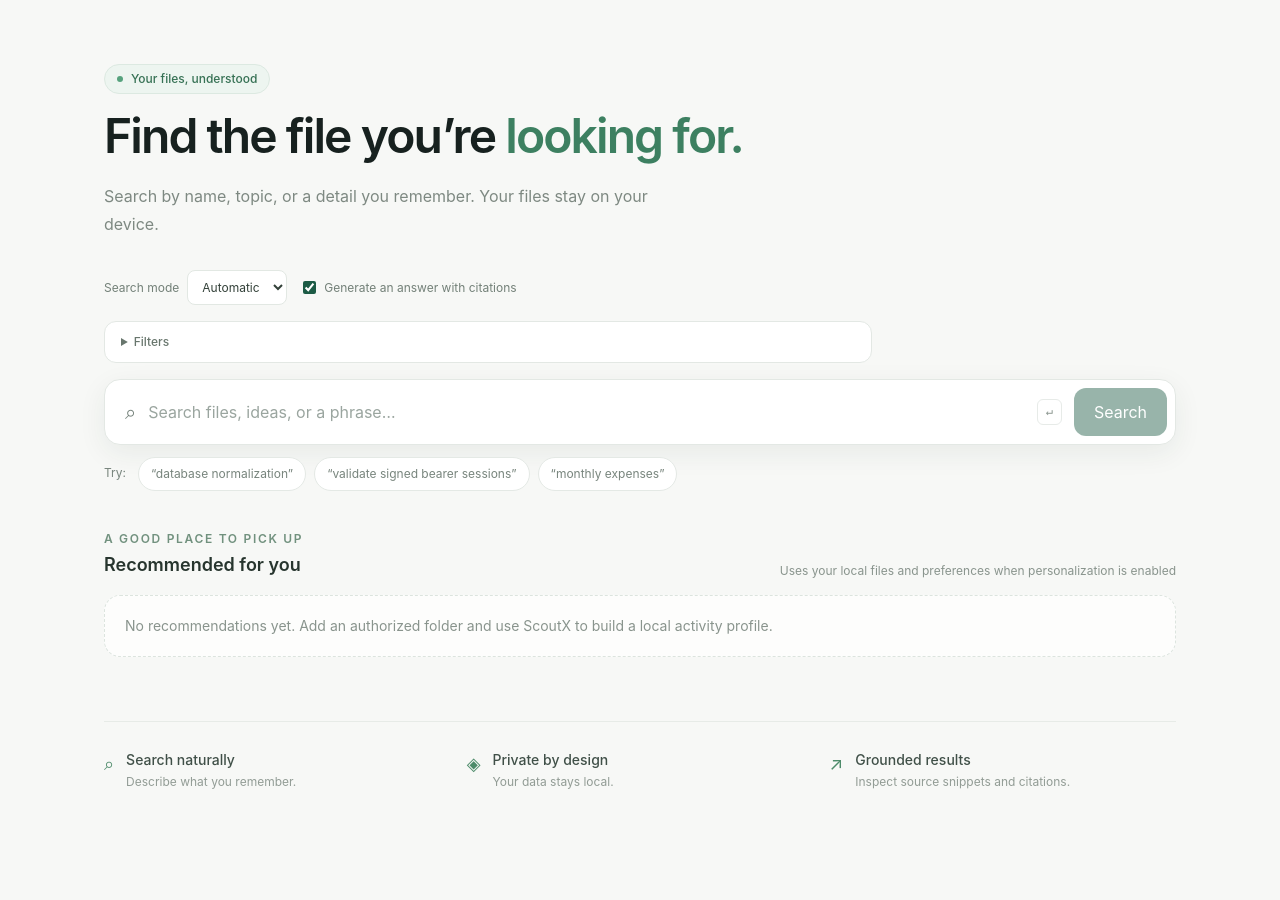
Test: SearchPage › shows the no-results response without inventing result cards
Type "unknown" into the field named "Search your files".
click(586, 412); type("unknown")  # box left=148, top=388, right=1025, bottom=436
Then press Enter
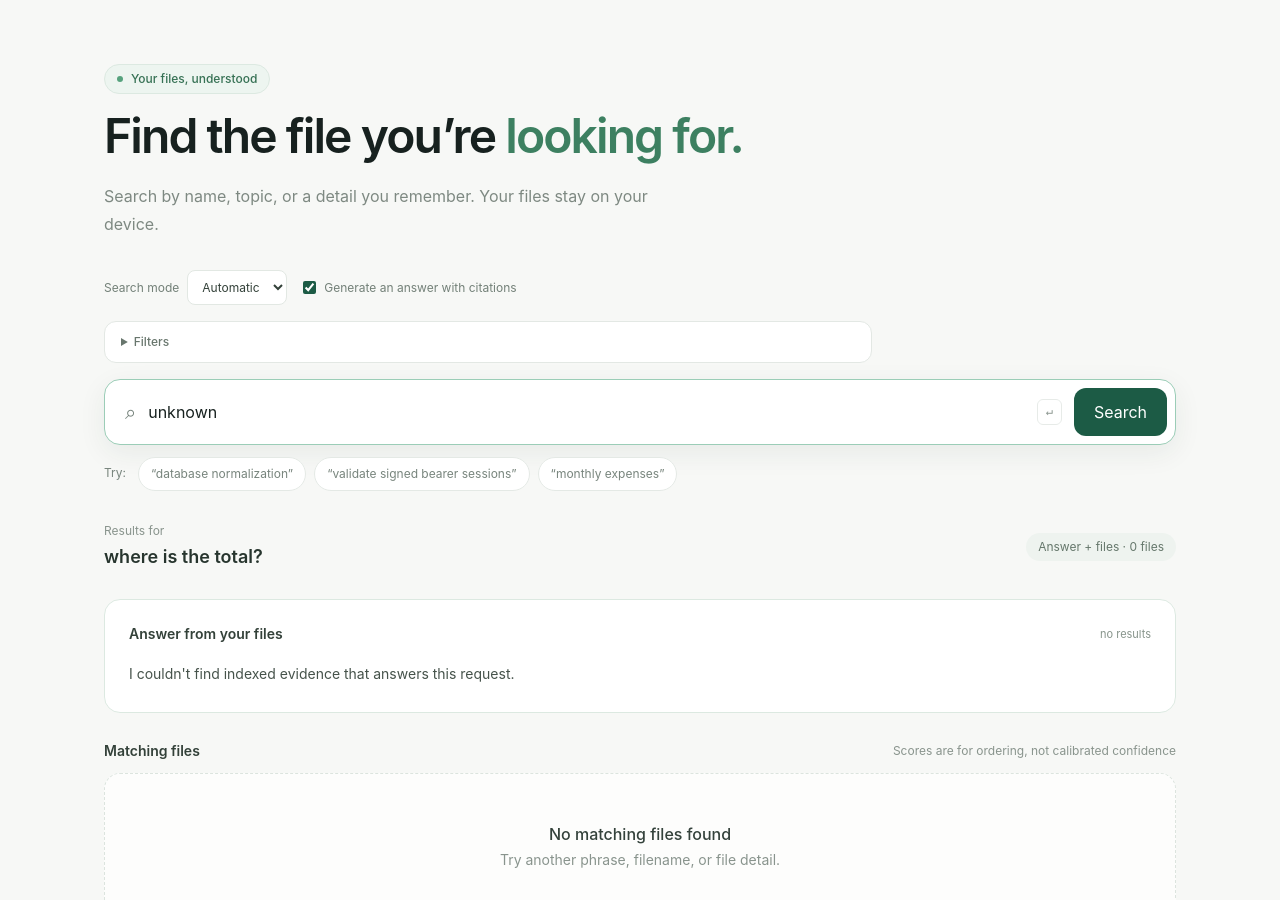
Expected: the text "No matching files found" is shown, left=549, top=824, right=731, bottom=844
